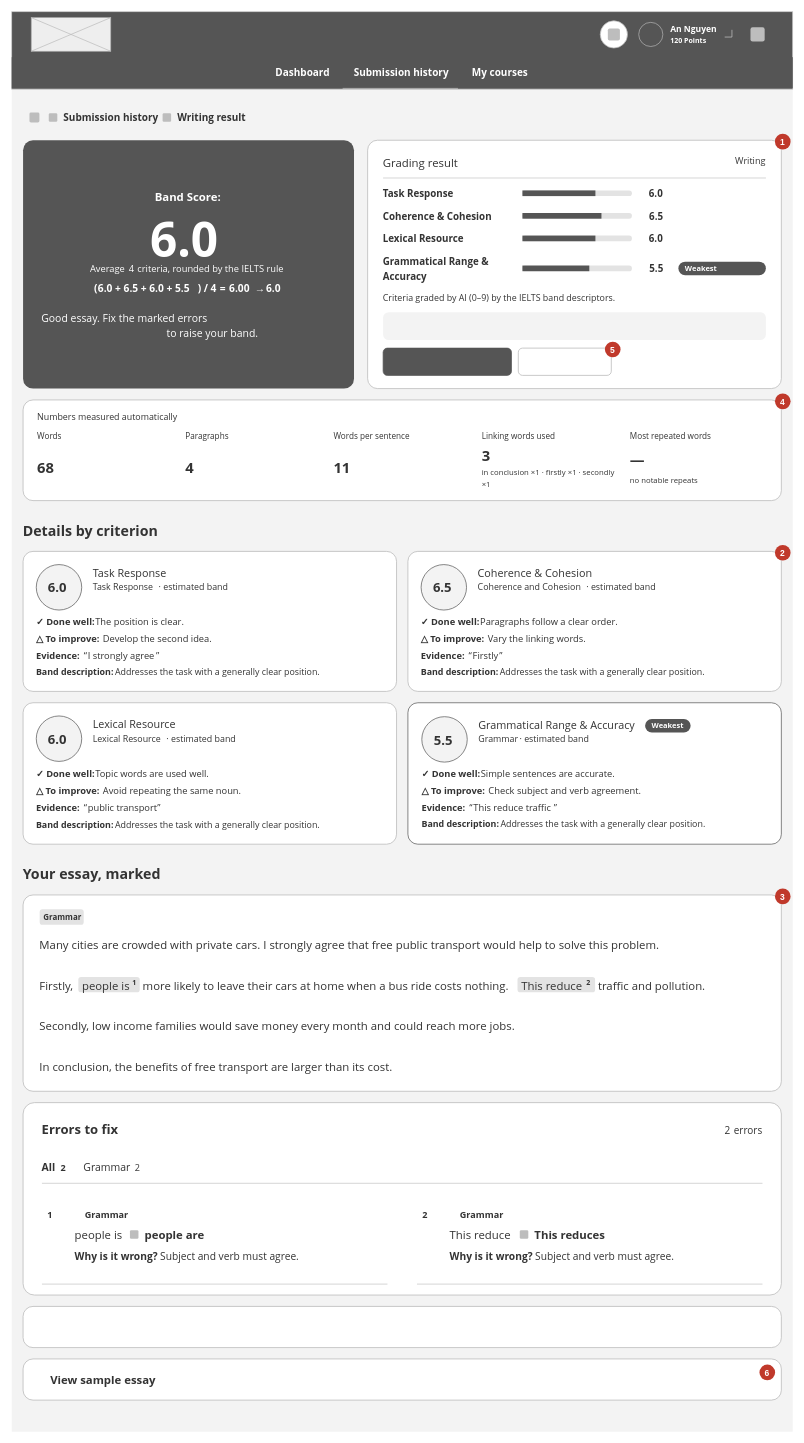
This 804x1443 diagram has some shape labels left out. The shapes that lost their labels are listed below. From the top down, each one's centre as x and y in pixels, then its label:
(x=650, y=34): AN
(x=574, y=326): A clear answer. Work on grammar accuracy to reach the next band.
(x=446, y=361): View corrected essay
(x=564, y=361): Rewrite essay
(x=401, y=1327): Read the corrected version
